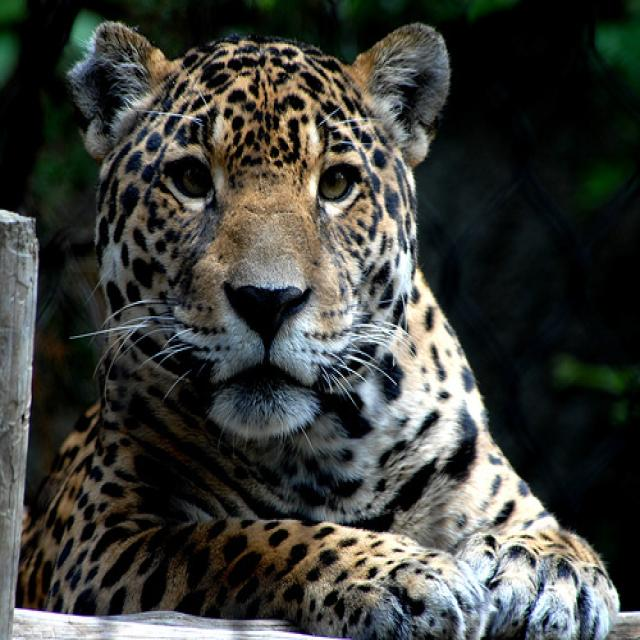Leopard: (9, 17, 617, 635)
